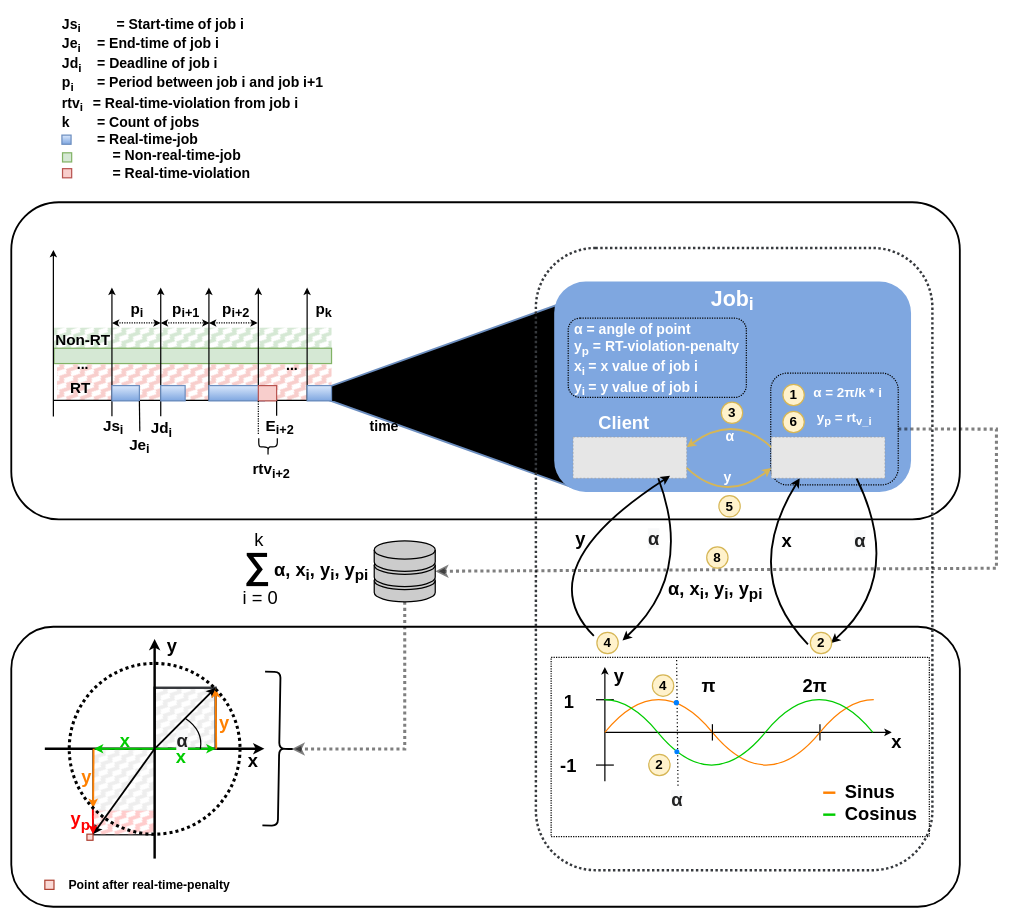
Some shapes in this 1013 by 918 pixel diagram are drawn without their labels. Grey dashed boxes stand in for pictures. The shapes that lost their labels are listed below. From the top down, each one's box as (x1, y1, x2, y2) in pixels, then its label:
(10, 201, 960, 520): Application Concept
(770, 372, 899, 485): Server
(534, 246, 933, 871): Calculation
(10, 626, 960, 907): Visualization
